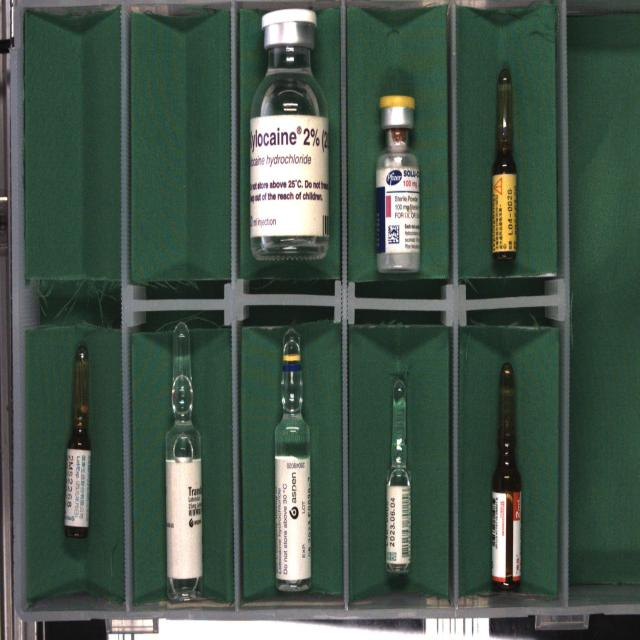Vials: (250, 9, 329, 260), (375, 95, 420, 273)
